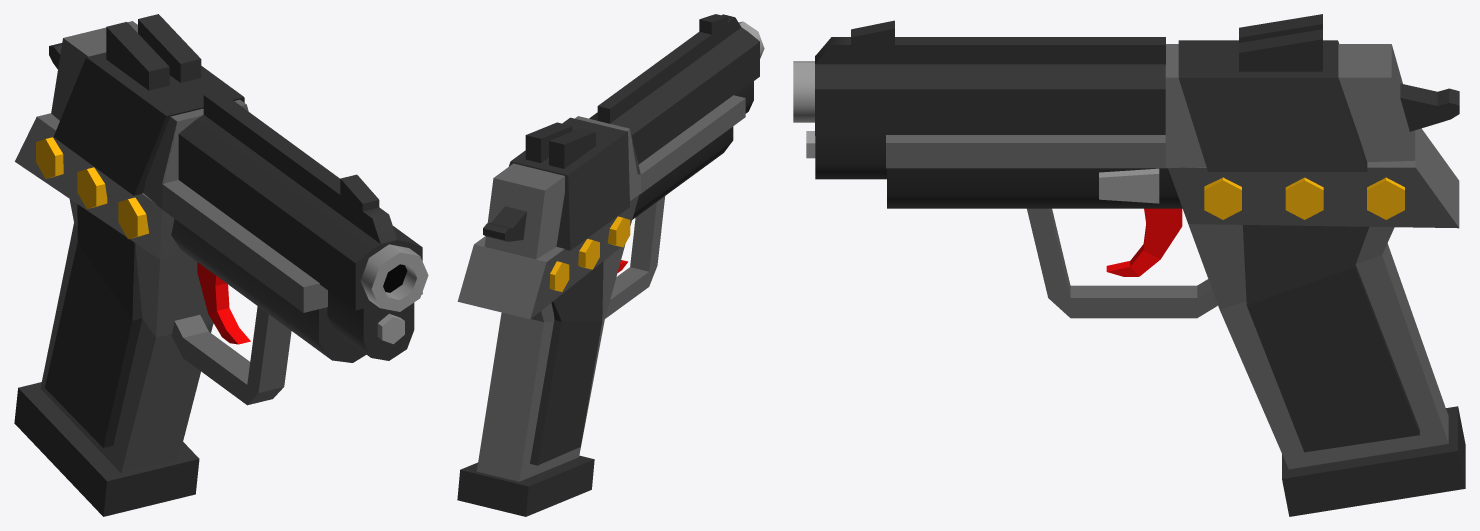
The model's file is SigSqueezay.fbx.
The picture shows the model from 3 angles, left to right: view 1: azimuth 30°, elevation 25°; view 2: azimuth 150°, elevation 25°; view 3: azimuth 270°, elevation 25°; orthographic projection. The views are drawn at different scales.
Parts seen in each view (by area): view 1: Slide, Handle, TopGrip, Grip, TopBodday, Magazine, TriggerGuard, BottomBodday, Barrel, LaserSight, Trigger, LaserNub.001 (+3 smaller); view 2: Handle, Slide, TopBodday, TopGrip, Grip, Magazine, TriggerGuard, BottomBodday, Hammer, LaserNub.001, LaserNub.002, LaserNub.003; view 3: Slide, Handle, Grip, TopGrip, TopBodday, BottomBodday, Magazine, TriggerGuard, LaserSight, Trigger, Hammer, SlideLock (+4 smaller).
Boxes of the visible parts, x1,y1,x2,y2 form: Slide: [178, 91, 422, 310]; Handle: [15, 113, 213, 473]; TopGrip: [53, 14, 244, 195]; Grip: [45, 204, 142, 447]; TopBodday: [51, 21, 327, 312]; Magazine: [14, 382, 199, 516]; TriggerGuard: [171, 306, 291, 405]; BottomBodday: [171, 219, 366, 362]; Barrel: [360, 244, 428, 311]; LaserSight: [327, 290, 414, 360]; Trigger: [197, 262, 250, 344]; LaserNub.001: [118, 197, 148, 239]; Handle: [457, 195, 638, 481]; Slide: [589, 14, 759, 164]; TopBodday: [484, 95, 745, 259]; TopGrip: [509, 117, 629, 250]; Grip: [530, 261, 603, 465]; Magazine: [457, 455, 594, 516]; TriggerGuard: [605, 196, 665, 318]; BottomBodday: [632, 126, 733, 219]; Hammer: [483, 206, 526, 241]; LaserNub.001: [607, 216, 630, 247]; LaserNub.002: [578, 239, 599, 269]; LaserNub.003: [549, 261, 569, 291]; Slide: [815, 20, 1165, 135]; Handle: [1168, 128, 1459, 469]; Grip: [1242, 225, 1419, 452]; TopGrip: [1178, 14, 1367, 171]; TopBodday: [886, 44, 1415, 168]; BottomBodday: [887, 168, 1182, 208]; Magazine: [1282, 406, 1465, 516]; TriggerGuard: [1027, 208, 1217, 318]; LaserSight: [815, 136, 886, 179]; Trigger: [1106, 208, 1182, 276]; Hammer: [1400, 83, 1459, 131]; SlideLock: [1099, 168, 1159, 203].
Size of the model in its own units: 95.35 by 382 by 495.
